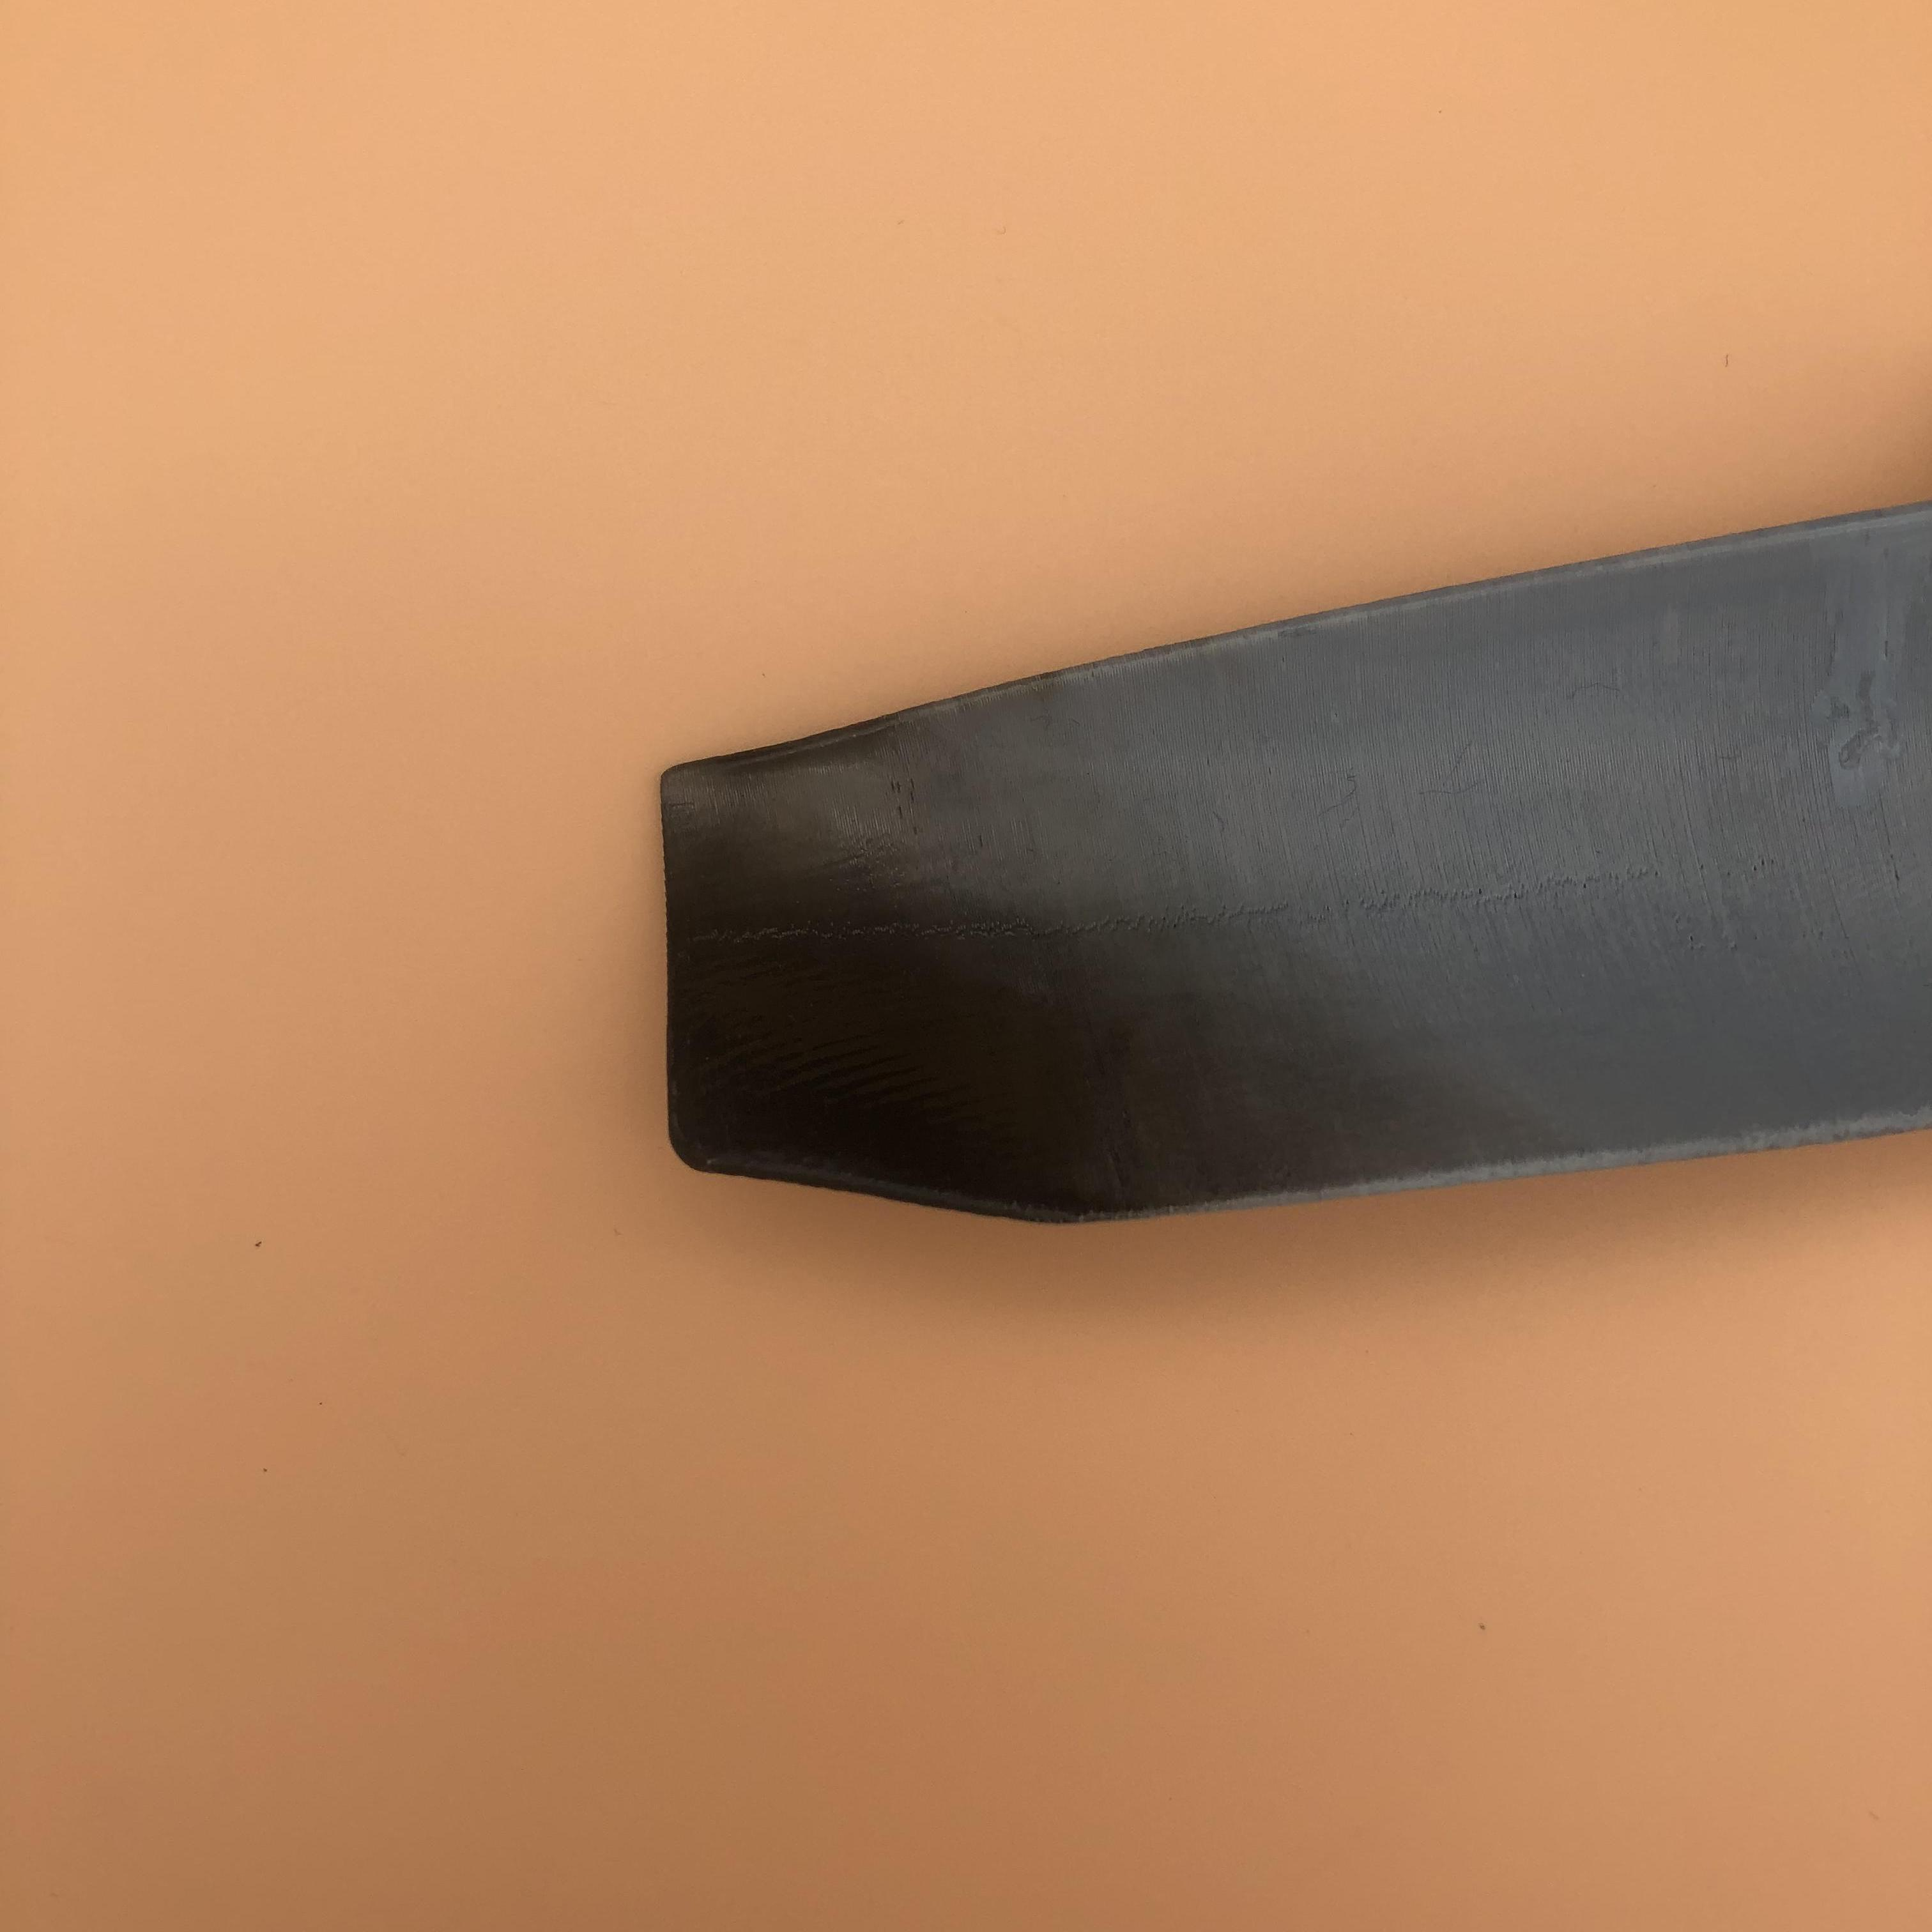ablation: (662, 748, 1274, 1212)
